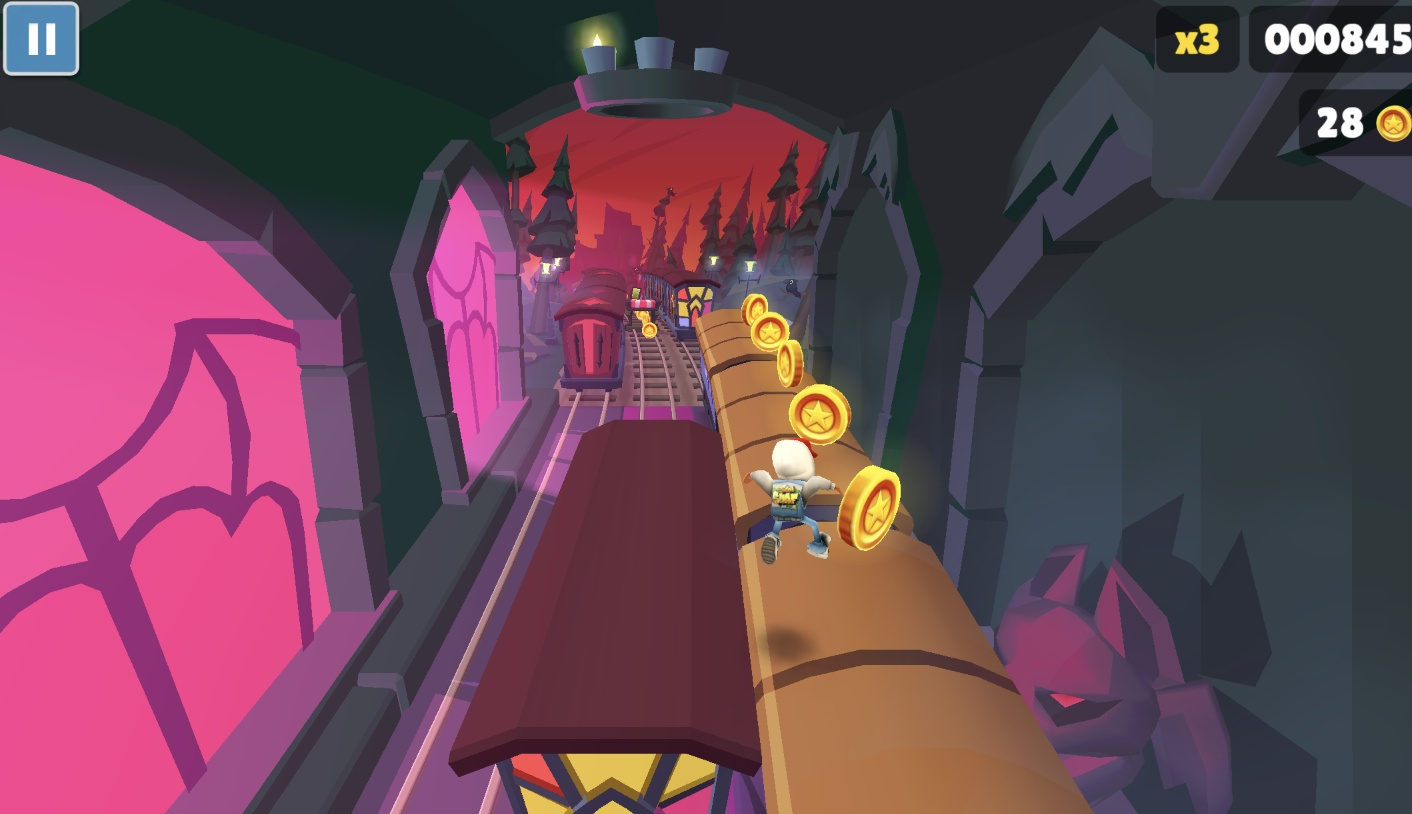ground_barrier: (627, 295, 660, 327)
train: (700, 297, 1098, 814), (520, 374, 840, 814), (551, 267, 630, 388), (638, 266, 721, 338)
